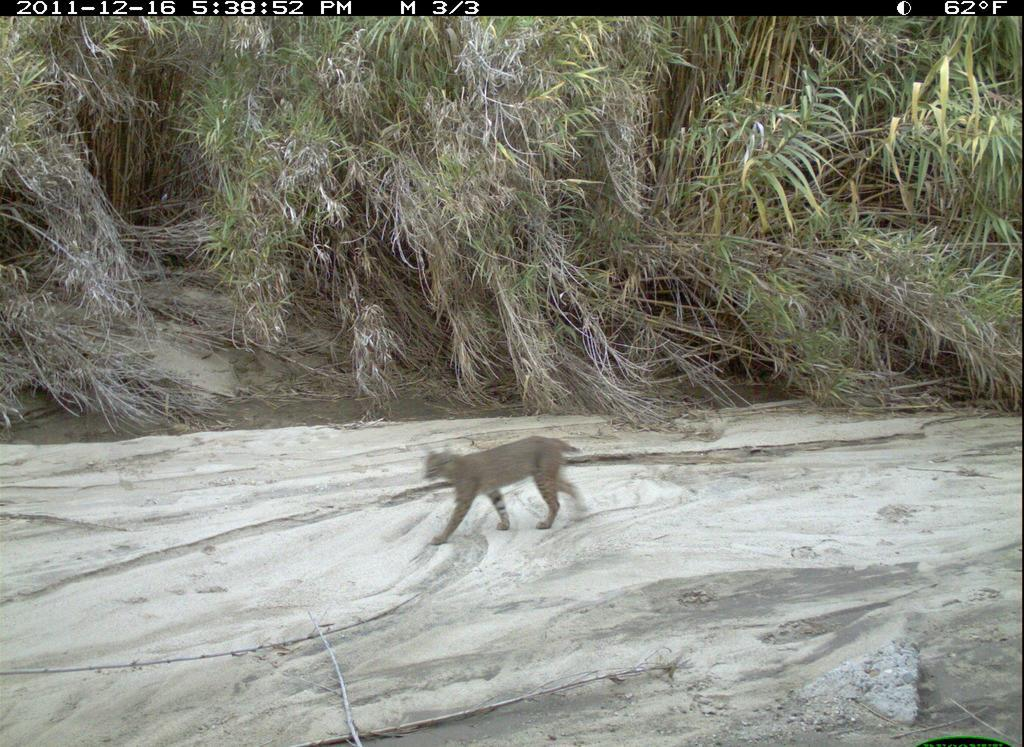bobcat: (415, 424, 593, 548)
